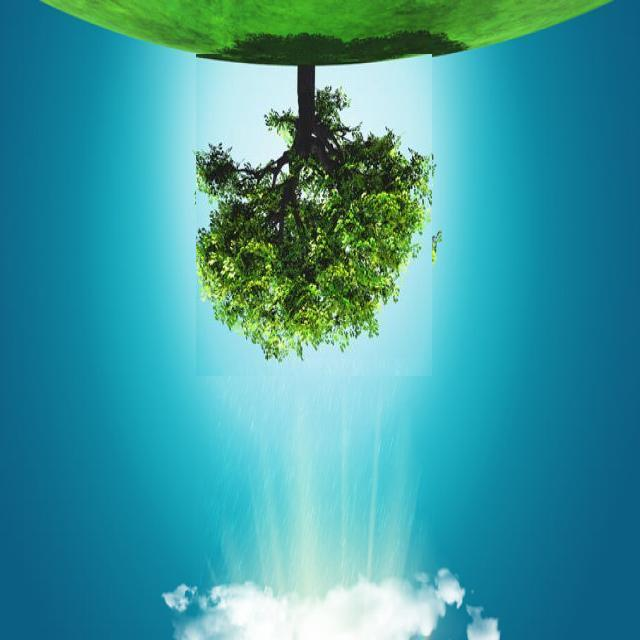tree: (196, 54, 432, 376)
